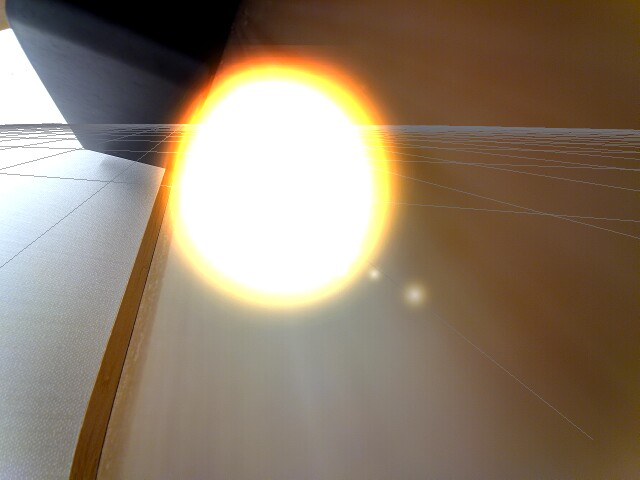fire: (161, 64, 394, 307)
